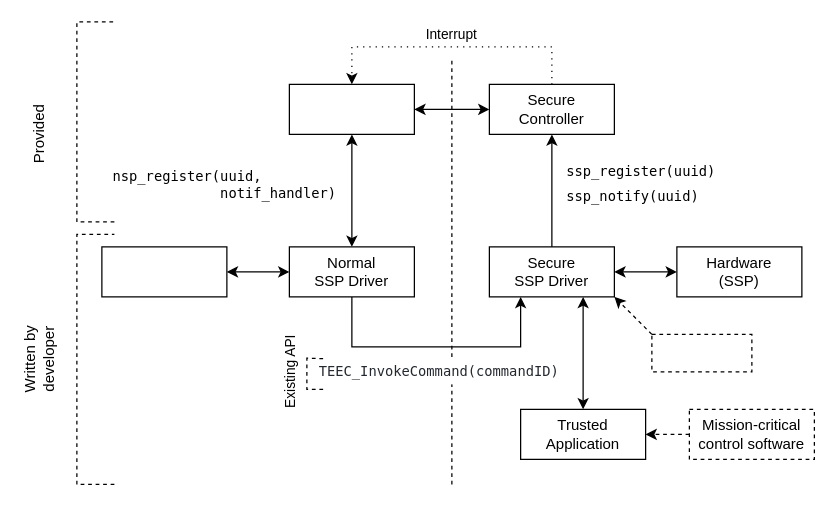
This 836x508 diagram has some shape labels left out. The centre of each missing label's shape, as x and y in pixels:
"Client Application" goes at pixel 164 271.
"Mixer logic" goes at pixel 701 352.
"Normal Controller" goes at pixel 351 108.
